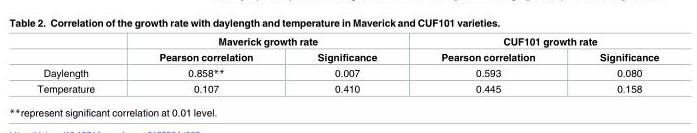table: (36, 36, 658, 94)
table column: (126, 36, 284, 94), (408, 36, 566, 94), (284, 36, 408, 94), (566, 36, 658, 94), (36, 36, 126, 94)
table column header: (36, 36, 658, 64)
table row: (36, 64, 658, 81), (36, 49, 658, 64), (36, 36, 658, 49), (36, 81, 658, 94)
table spanning cell: (126, 36, 408, 49), (408, 36, 658, 49)
